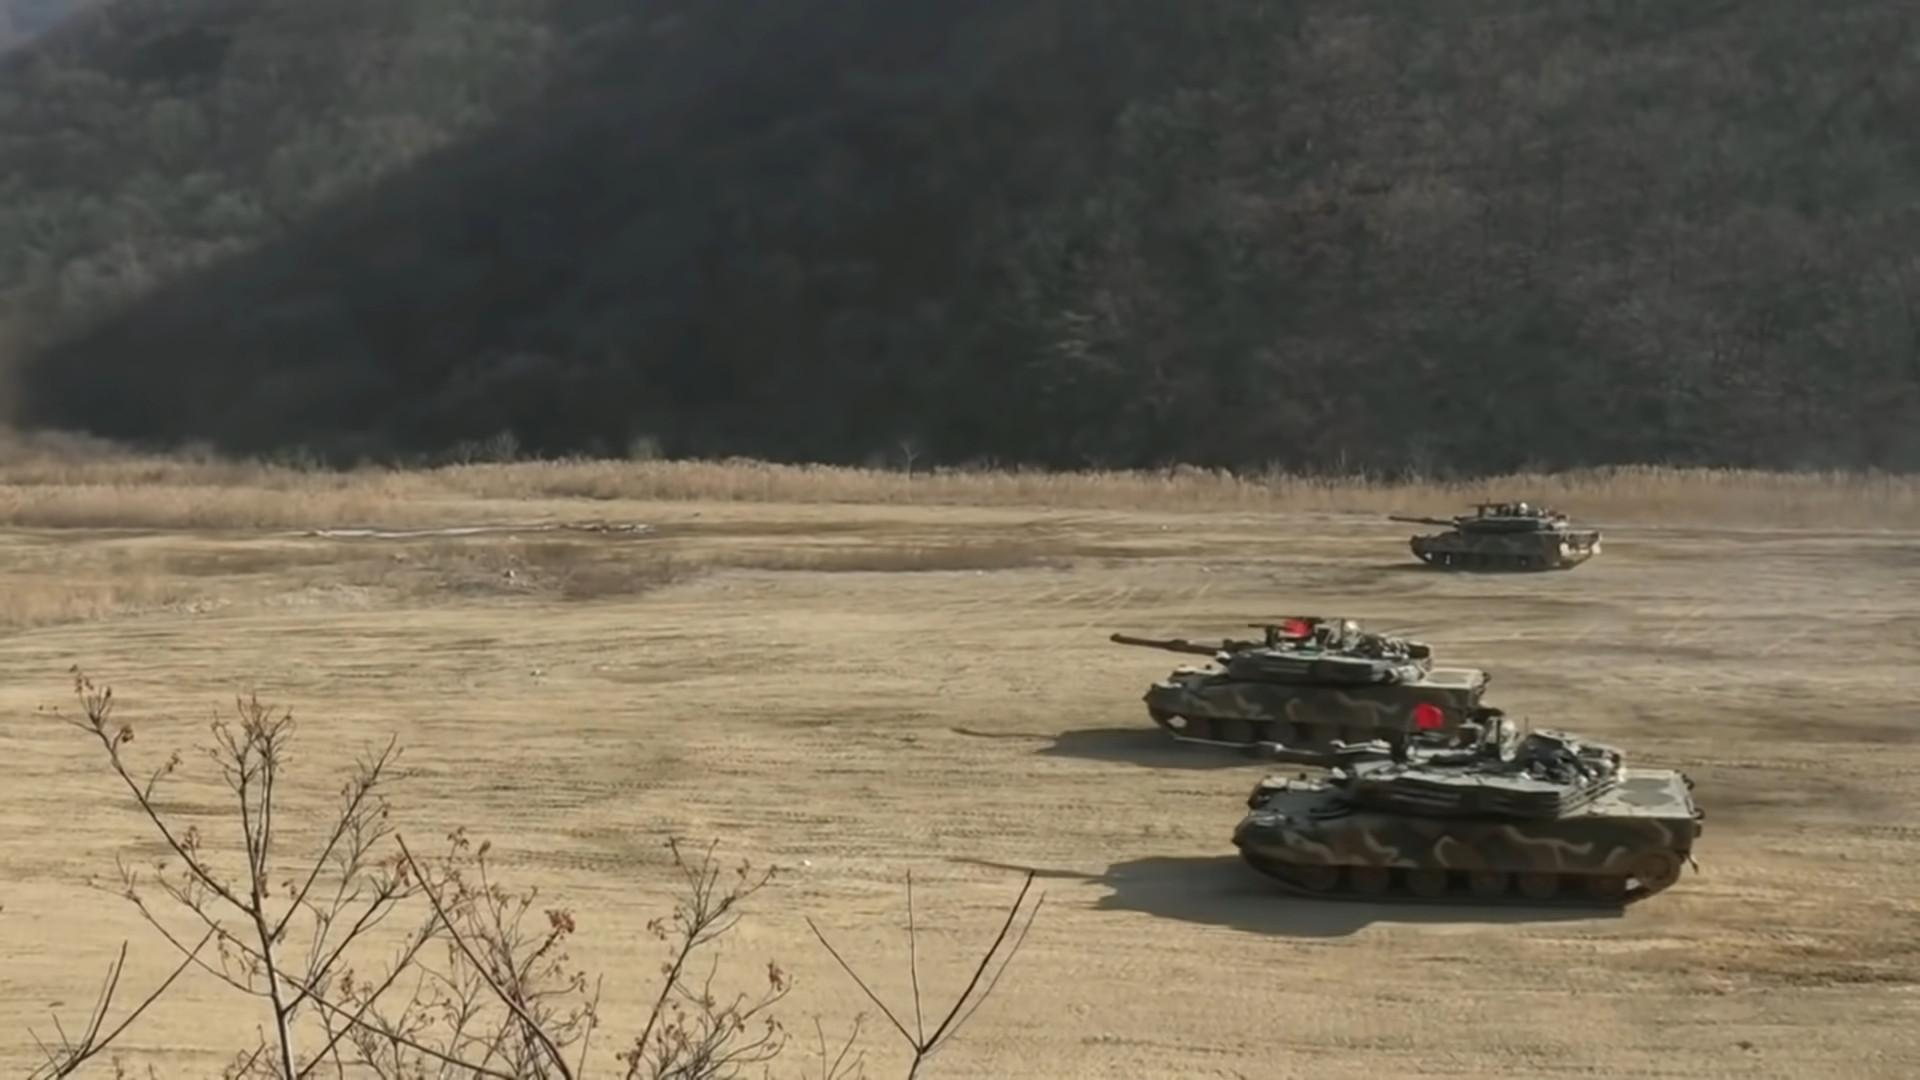tank: (1168, 716, 1704, 906), (1112, 616, 1491, 746), (1387, 501, 1602, 571)
